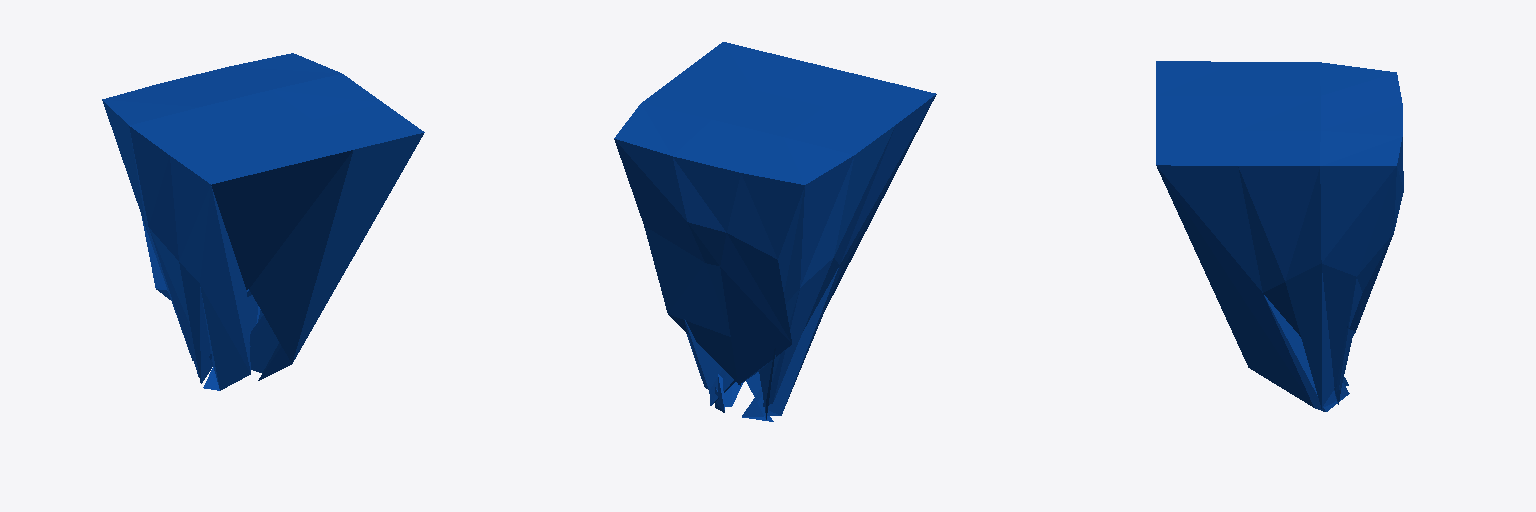
File: stone0020.obj
3 renders of one model, left to right at view 1: azimuth 30°, elevation 25°; view 2: azimuth 150°, elevation 25°; view 3: azimuth 270°, elevation 25°, orthographic.
Parts seen in each view (by area): view 1: Landscape.007; view 2: Landscape.007; view 3: Landscape.007.
Boxes of the visible parts, x1=… form: Landscape.007: x1=102, y1=53, x2=424, y2=390; Landscape.007: x1=614, y1=42, x2=936, y2=421; Landscape.007: x1=1156, y1=61, x2=1403, y2=411.
Bounding box in the file's own units: 0.4293 × 0.5471 × 0.4304.